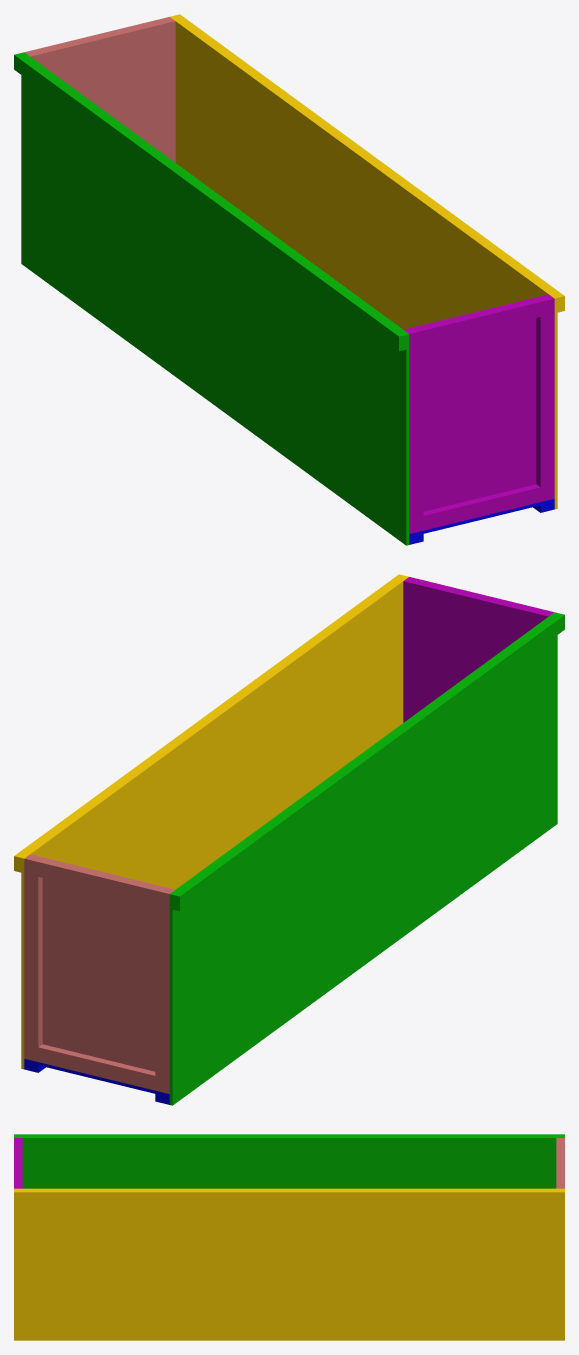
File: result.glb
3 views of the same model, one above another, from view 1: azimuth 30°, elevation 25°; view 2: azimuth 150°, elevation 25°; view 3: azimuth 270°, elevation 25° (orthographic). The views are drawn at different scales.
Parts seen in each view (by area): view 1: a6e3b34b-895a-4302-9f6f-48d1d4353477__Box_6, 505c2537-024a-4f4e-b361-aeef6cfdac5d__undefined, 97cc4515-e376-4400-b921-b0d3246e97c2__Box_3, 45ba33aa-05f6-4dbf-bbc1-23e94f02583f__undefined, 5d8e5e2b-deb1-4761-aaa0-9ec17f778c99__Box_7, d0129304-35a7-4ab4-b5cb-41743acde3e0__undefined, 517ec54f-565f-4dd6-b627-1cf343a7cfb4__undefined, 175f4f0c-2c6d-48ca-8177-94fc03344f1a__Box_4, 391ee498-ef68-4785-abcf-53170754c34e__undefined, 186e33d2-c0a7-4747-935b-bdd2dbc571e0__Box_5; view 2: a6e3b34b-895a-4302-9f6f-48d1d4353477__Box_6, 505c2537-024a-4f4e-b361-aeef6cfdac5d__undefined, 45ba33aa-05f6-4dbf-bbc1-23e94f02583f__undefined, 97cc4515-e376-4400-b921-b0d3246e97c2__Box_3, 5d8e5e2b-deb1-4761-aaa0-9ec17f778c99__Box_7, 71a9ebf1-0cc3-44e3-a4b7-1e1f6b6949de__undefined, 517ec54f-565f-4dd6-b627-1cf343a7cfb4__undefined, 15193b7b-0522-482b-acd4-933320dc9224__undefined, 1c18f2e8-abb1-449a-861f-e464a9f32902__undefined, b73f8e73-442f-4524-98c6-94d799f52316__undefined; view 3: 505c2537-024a-4f4e-b361-aeef6cfdac5d__undefined, a6e3b34b-895a-4302-9f6f-48d1d4353477__Box_6, 517ec54f-565f-4dd6-b627-1cf343a7cfb4__undefined, 5d8e5e2b-deb1-4761-aaa0-9ec17f778c99__Box_7.
Part boxes in pixels (left/top/right/bottom): a6e3b34b-895a-4302-9f6f-48d1d4353477__Box_6: left=21, top=52, right=409, bottom=545; 505c2537-024a-4f4e-b361-aeef6cfdac5d__undefined: left=170, top=16, right=557, bottom=509; 97cc4515-e376-4400-b921-b0d3246e97c2__Box_3: left=404, top=294, right=549, bottom=511; 45ba33aa-05f6-4dbf-bbc1-23e94f02583f__undefined: left=29, top=20, right=175, bottom=162; 5d8e5e2b-deb1-4761-aaa0-9ec17f778c99__Box_7: left=14, top=53, right=406, bottom=351; d0129304-35a7-4ab4-b5cb-41743acde3e0__undefined: left=536, top=295, right=554, bottom=501; 517ec54f-565f-4dd6-b627-1cf343a7cfb4__undefined: left=173, top=14, right=564, bottom=312; 175f4f0c-2c6d-48ca-8177-94fc03344f1a__Box_4: left=405, top=327, right=423, bottom=533; 391ee498-ef68-4785-abcf-53170754c34e__undefined: left=419, top=299, right=540, bottom=345; 186e33d2-c0a7-4747-935b-bdd2dbc571e0__Box_5: left=423, top=484, right=540, bottom=530; a6e3b34b-895a-4302-9f6f-48d1d4353477__Box_6: left=169, top=612, right=557, bottom=1105; 505c2537-024a-4f4e-b361-aeef6cfdac5d__undefined: left=21, top=576, right=408, bottom=1069; 45ba33aa-05f6-4dbf-bbc1-23e94f02583f__undefined: left=29, top=854, right=174, bottom=1071; 97cc4515-e376-4400-b921-b0d3246e97c2__Box_3: left=403, top=580, right=549, bottom=722; 5d8e5e2b-deb1-4761-aaa0-9ec17f778c99__Box_7: left=172, top=613, right=564, bottom=911; 71a9ebf1-0cc3-44e3-a4b7-1e1f6b6949de__undefined: left=24, top=855, right=42, bottom=1061; 517ec54f-565f-4dd6-b627-1cf343a7cfb4__undefined: left=14, top=574, right=405, bottom=872; 15193b7b-0522-482b-acd4-933320dc9224__undefined: left=155, top=887, right=173, bottom=1093; 1c18f2e8-abb1-449a-861f-e464a9f32902__undefined: left=38, top=859, right=159, bottom=905; b73f8e73-442f-4524-98c6-94d799f52316__undefined: left=38, top=1044, right=155, bottom=1090; 505c2537-024a-4f4e-b361-aeef6cfdac5d__undefined: left=14, top=1188, right=564, bottom=1340; a6e3b34b-895a-4302-9f6f-48d1d4353477__Box_6: left=14, top=1137, right=564, bottom=1188; 517ec54f-565f-4dd6-b627-1cf343a7cfb4__undefined: left=14, top=1189, right=564, bottom=1202; 5d8e5e2b-deb1-4761-aaa0-9ec17f778c99__Box_7: left=14, top=1134, right=564, bottom=1136.
Size of the model in its own units: 434 by 527 by 1744.
